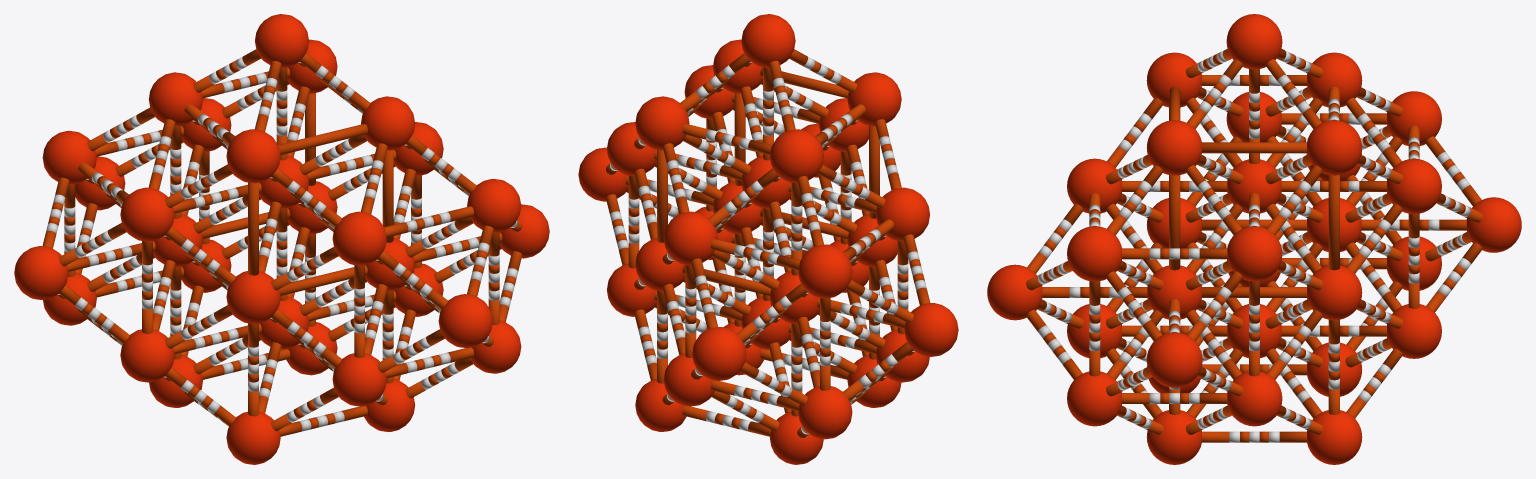
Rendered from 3D_Iron.fbx.
3 views of the same model, side by side, from view 1: azimuth 30°, elevation 25°; view 2: azimuth 150°, elevation 25°; view 3: azimuth 270°, elevation 25° (orthographic). The views are drawn at different scales.
Visible parts, largest first — view 1: Shape_IndexedFaceSet; view 2: Shape_IndexedFaceSet; view 3: Shape_IndexedFaceSet.
Boxes of the visible parts, x1,y1,x2,y2 form: Shape_IndexedFaceSet: (14, 14, 549, 464); Shape_IndexedFaceSet: (578, 14, 958, 464); Shape_IndexedFaceSet: (987, 14, 1521, 464).
Size of the model in its own units: 9582 by 8137 by 9582.
